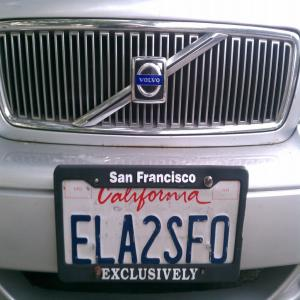Vehicle-registration-plate: (55, 165, 250, 285)
